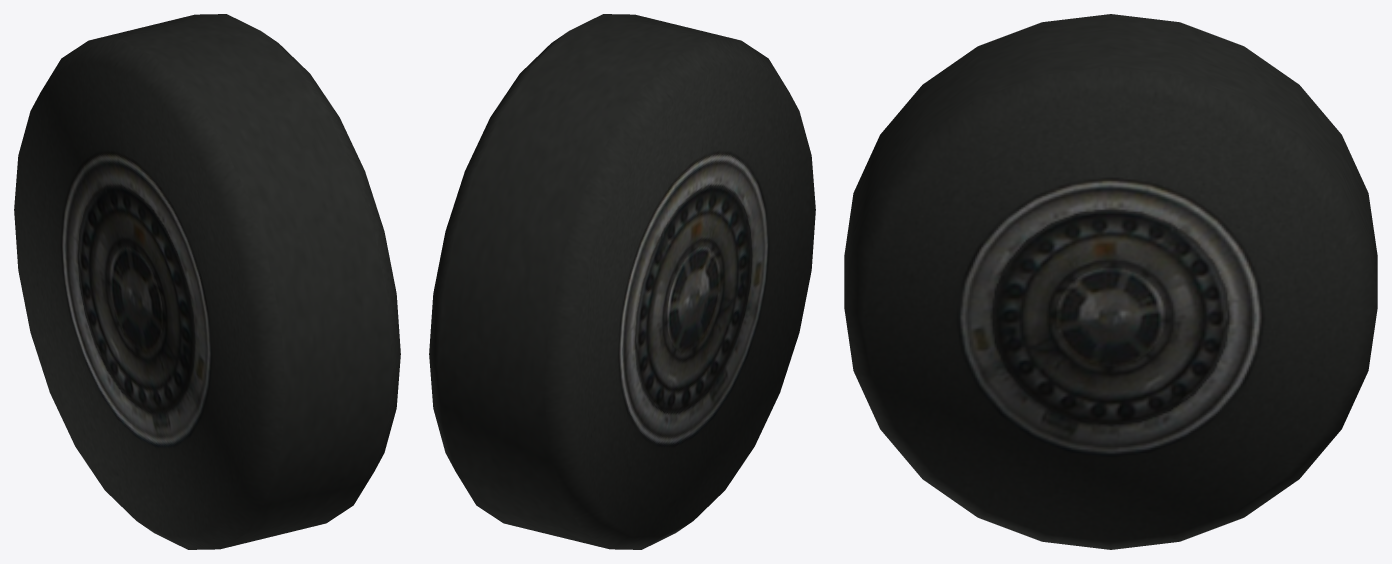
File: flugzeug_reifen.fbx
3 renders of one model, left to right at view 1: azimuth 30°, elevation 25°; view 2: azimuth 150°, elevation 25°; view 3: azimuth 270°, elevation 25°, orthographic.
Visible parts, largest first — view 1: reifen; view 2: reifen; view 3: reifen.
Boxes of the visible parts, x1,y1,x2,y2 form: reifen: [14, 14, 400, 549]; reifen: [429, 14, 815, 549]; reifen: [844, 14, 1377, 549].
Bounding box in the file's own units: 20.83 × 66.64 × 66.64.
